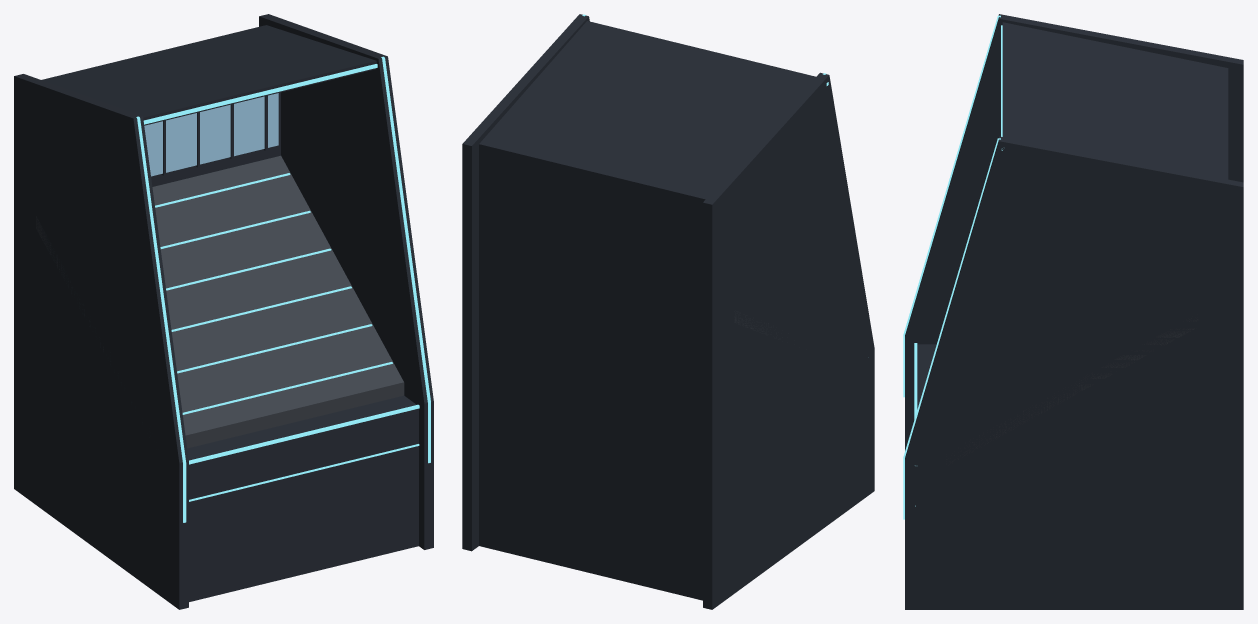
The model's file is stand.glb.
3 views of the same model, side by side, from view 1: azimuth 30°, elevation 25°; view 2: azimuth 150°, elevation 25°; view 3: azimuth 270°, elevation 25° (orthographic). The views are drawn at different scales.
Visible parts, largest first — view 1: Shell, Deck, Trim, Window; view 2: Shell; view 3: Shell, Trim, Deck.
Part boxes in pixels (x1,y1,x2,y2): Shell: (14,14,433,609); Deck: (36,155,404,448); Trim: (136,56,430,522); Window: (144,93,278,176); Shell: (462,14,874,609); Shell: (905,14,1243,609); Trim: (903,15,1002,519); Deck: (946,318,1197,461).
Bounding box in the file's own units: 16 × 27.5 × 18.08.
